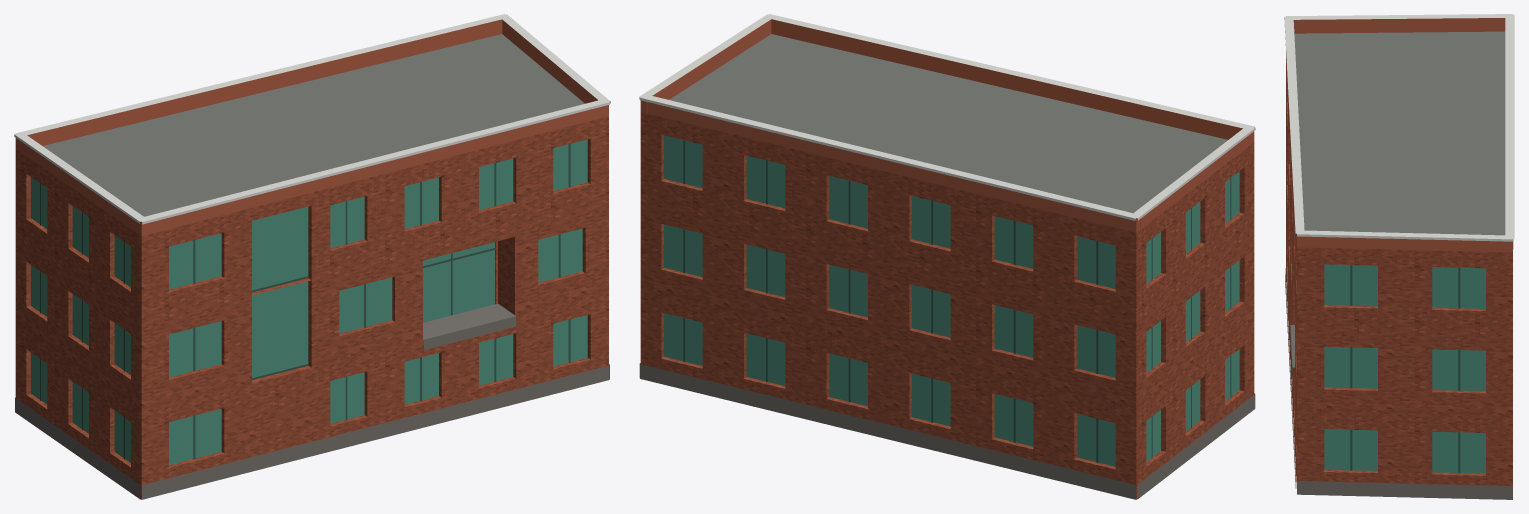
3 renders of one model, left to right at view 1: azimuth 30°, elevation 25°; view 2: azimuth 150°, elevation 25°; view 3: azimuth 270°, elevation 25°, orthographic. The views are drawn at different scales.
Visible parts, largest first — view 1: wonheungAnnex__wall, wonheungAnnex__roof, wonheungAnnex__glass, wonheungAnnex__parapet, wonheungAnnex__base, wonheungAnnex__trim, wonheungAnnex__frame; view 2: wonheungAnnex__wall, wonheungAnnex__roof, wonheungAnnex__glass, wonheungAnnex__parapet, wonheungAnnex__base, wonheungAnnex__trim, wonheungAnnex__frame; view 3: wonheungAnnex__roof, wonheungAnnex__wall, wonheungAnnex__glass, wonheungAnnex__trim, wonheungAnnex__parapet, wonheungAnnex__base, wonheungAnnex__frame.
Part boxes in pixels (<box>): wonheungAnnex__wall: <box>15,116,608,499</box>; wonheungAnnex__roof: <box>43,34,584,499</box>; wonheungAnnex__glass: <box>31,139,587,464</box>; wonheungAnnex__parapet: <box>15,19,608,235</box>; wonheungAnnex__base: <box>15,303,609,499</box>; wonheungAnnex__trim: <box>14,14,610,224</box>; wonheungAnnex__frame: <box>40,143,570,459</box>; wonheungAnnex__wall: <box>640,112,1254,499</box>; wonheungAnnex__roof: <box>669,34,1227,499</box>; wonheungAnnex__glass: <box>664,135,1239,466</box>; wonheungAnnex__parapet: <box>640,19,1254,232</box>; wonheungAnnex__base: <box>639,363,1255,499</box>; wonheungAnnex__trim: <box>639,14,1255,220</box>; wonheungAnnex__frame: <box>683,140,1231,462</box>; wonheungAnnex__roof: <box>1286,31,1506,499</box>; wonheungAnnex__wall: <box>1286,52,1512,487</box>; wonheungAnnex__glass: <box>1324,264,1485,473</box>; wonheungAnnex__trim: <box>1284,14,1514,241</box>; wonheungAnnex__parapet: <box>1293,18,1513,252</box>; wonheungAnnex__base: <box>1285,268,1512,499</box>; wonheungAnnex__frame: <box>1350,265,1460,473</box>.
Bounding box in the file's own units: 21.14 × 11.42 × 9.12.
8 materials, 1 textured.
